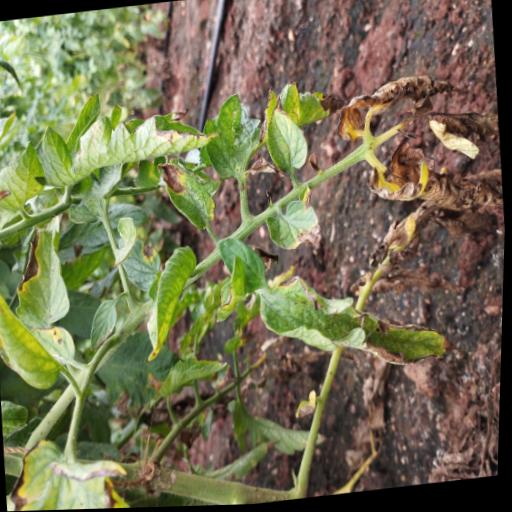Early Blight: (257, 255, 472, 392), (249, 76, 358, 149), (154, 154, 222, 239), (264, 198, 327, 266), (113, 236, 167, 296)
